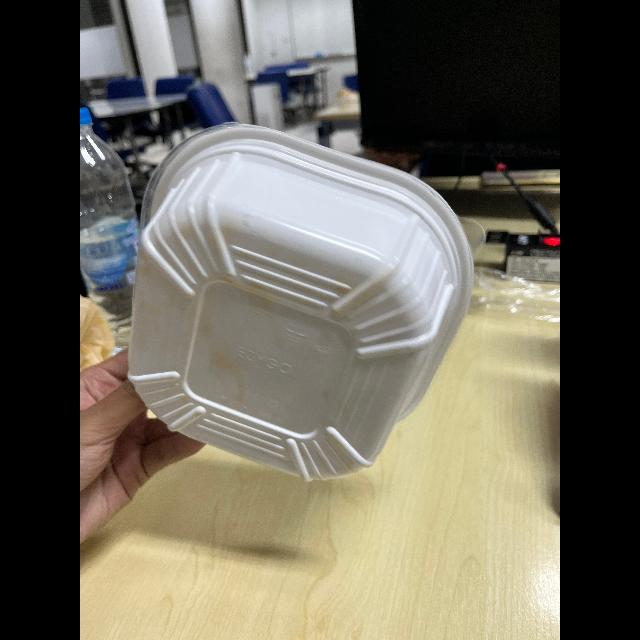plastic_box: (120, 117, 470, 496)
